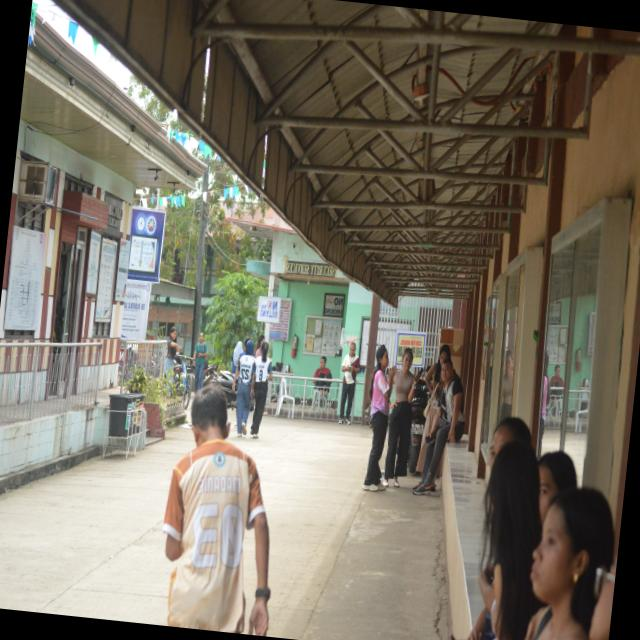person: (163, 385, 269, 635), (523, 489, 613, 639), (412, 360, 464, 495), (382, 349, 417, 487), (362, 345, 395, 491), (538, 451, 576, 521), (487, 417, 530, 470), (232, 340, 254, 437), (250, 342, 271, 437), (338, 342, 359, 424), (499, 350, 513, 420), (193, 332, 207, 391), (163, 327, 179, 375), (231, 341, 242, 374), (549, 365, 563, 388), (254, 335, 263, 358)
